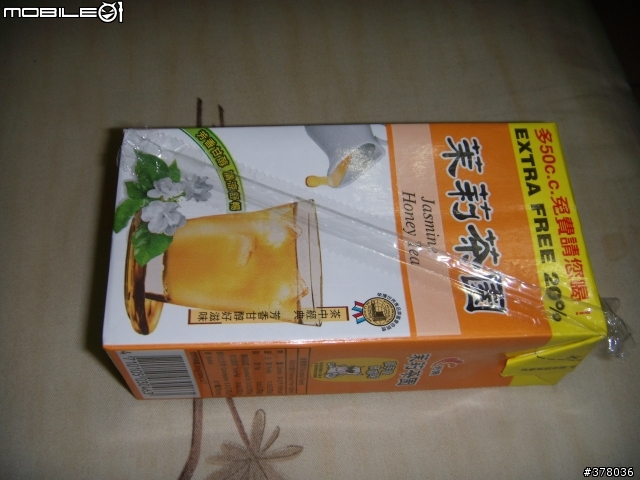鋁箔包: (95, 120, 617, 401)
